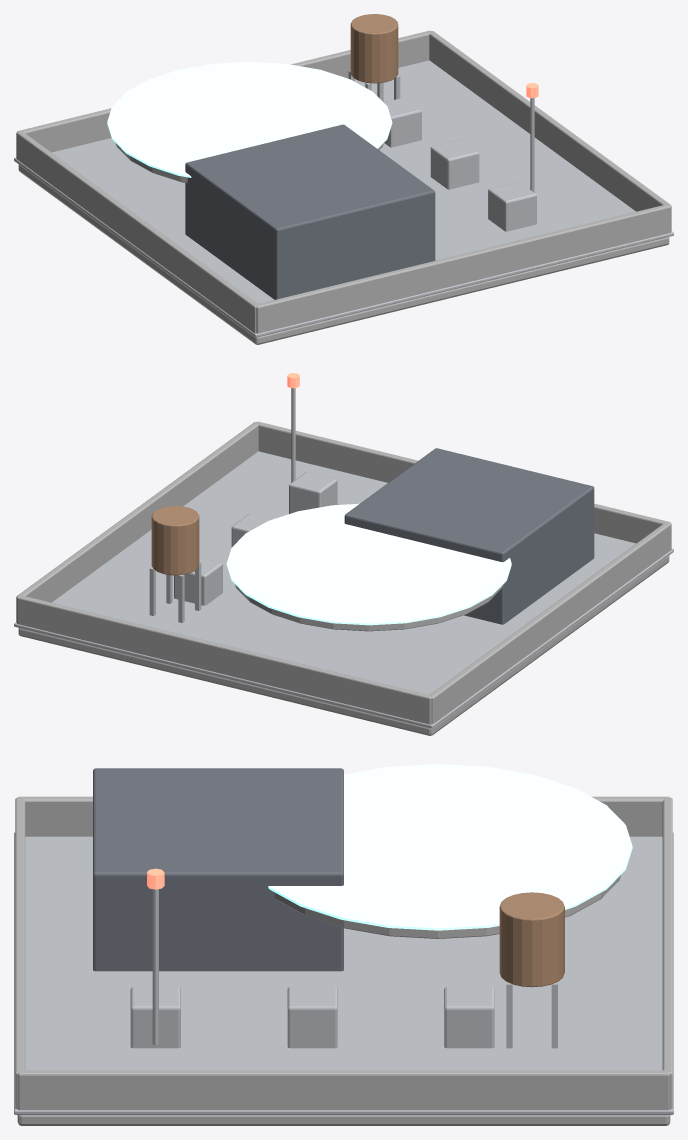
File: roof_5x5_heli_office.glb
3 renders of one model, top to bottom at view 1: azimuth 30°, elevation 25°; view 2: azimuth 150°, elevation 25°; view 3: azimuth 270°, elevation 25°, orthographic. The views are drawn at different scales.
Parts seen in each view (by area): view 1: ext_penthouse, ext_parapet, int_slab_edge, ext_helipad_ring, ext_ac, int_slab, ext_tank; view 2: int_slab_edge, ext_parapet, ext_penthouse, ext_helipad_ring, int_slab, ext_ac, ext_tank, ext_helipad, ext_tank_legs; view 3: int_slab_edge, ext_penthouse, ext_helipad_ring, ext_parapet, ext_ac, int_slab, ext_tank, ext_helipad, ext_mast, ext_tank_legs.
Boxes of the visible parts, x1,y1,x2,y2 form: ext_penthouse: [185, 124, 435, 299]; ext_parapet: [16, 30, 671, 333]; int_slab_edge: [14, 60, 673, 337]; ext_helipad_ring: [107, 61, 392, 177]; ext_ac: [384, 97, 536, 231]; int_slab: [18, 164, 669, 344]; ext_tank: [350, 14, 398, 83]; int_slab_edge: [14, 451, 673, 728]; ext_parapet: [16, 421, 671, 724]; ext_penthouse: [344, 448, 594, 624]; ext_helipad_ring: [226, 503, 511, 625]; int_slab: [18, 555, 669, 735]; ext_ac: [174, 472, 337, 605]; ext_tank: [151, 506, 199, 575]; ext_helipad: [235, 584, 503, 631]; ext_tank_legs: [149, 562, 201, 622]; int_slab_edge: [14, 832, 673, 1114]; ext_penthouse: [93, 768, 343, 971]; ext_helipad_ring: [268, 764, 632, 930]; ext_parapet: [15, 796, 672, 1110]; ext_ac: [130, 987, 494, 1048]; int_slab: [17, 1115, 670, 1125]; ext_tank: [499, 892, 564, 987]; ext_helipad: [275, 875, 620, 938]; ext_mast: [152, 889, 158, 1045]; ext_tank_legs: [506, 982, 557, 1048].
Bounding box in the file's own units: 5.26 × 1.73 × 5.26.
